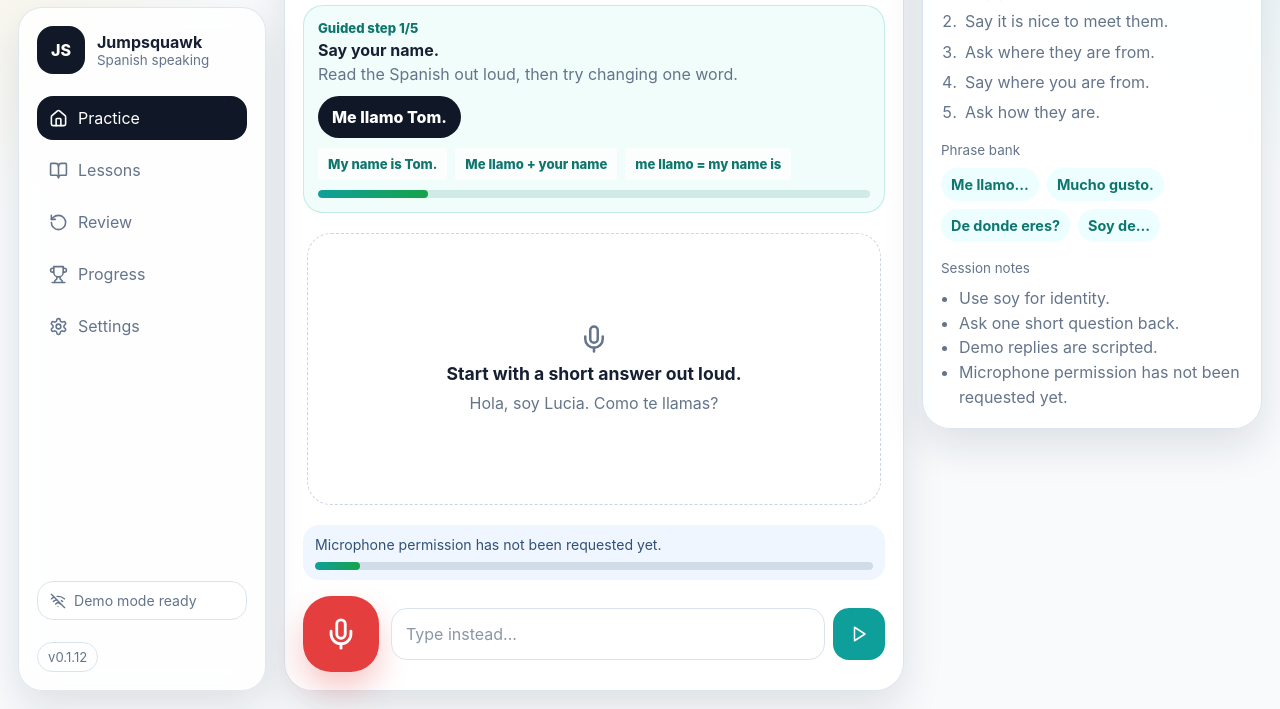
Test: App › sends typed practice without requiring the mic first
The image size is (1280, 709).
(page scrolled)
Type "Me llamo Tom" into the field named "Type a practice reply" at coordinates (608, 634), box [391,608,825,660]
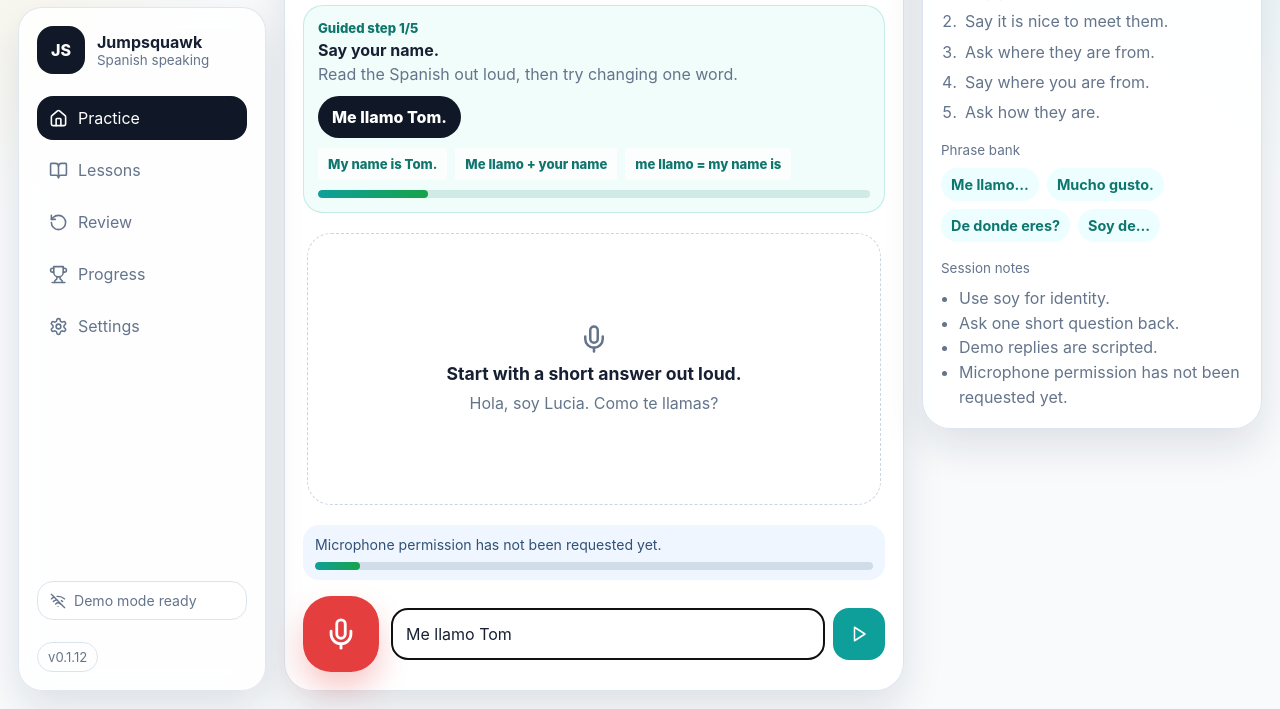
Click the button named "Send typed reply" at coordinates (859, 634), box [833,608,885,660]
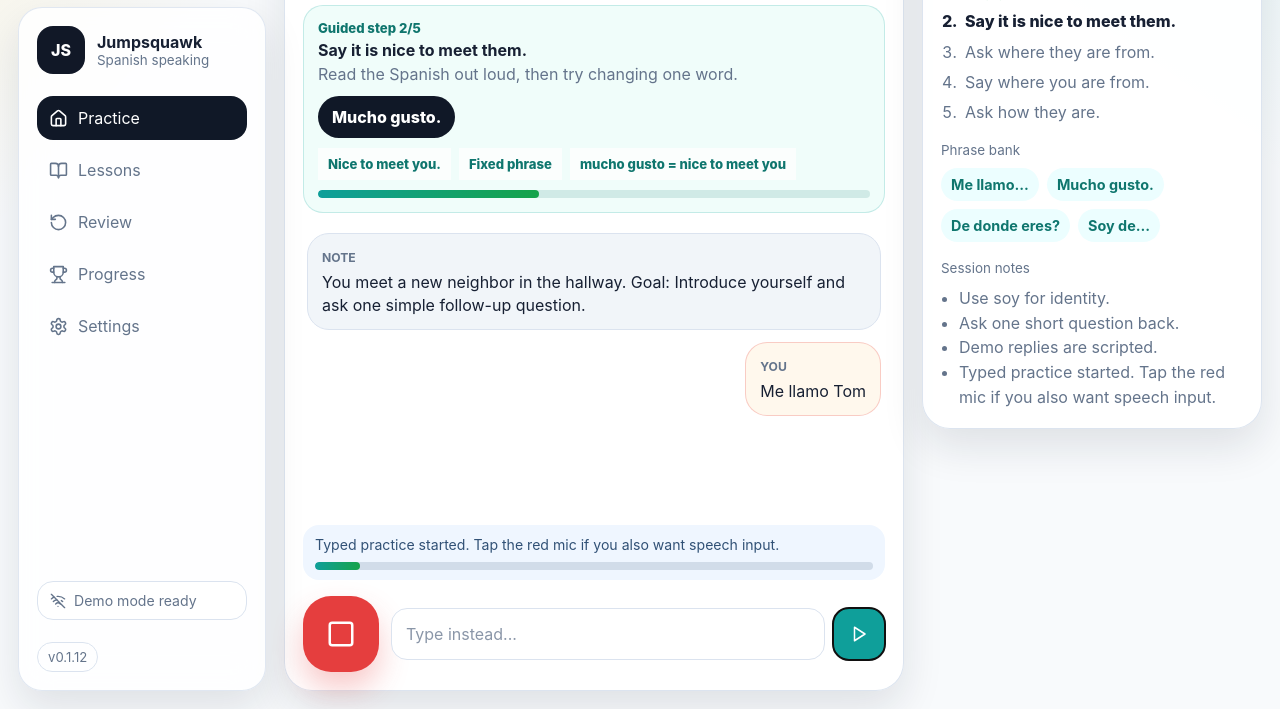
Check: the text "Me llamo Tom" is shown, box [760,380,866,403]
Check: the text "Typed practice started" is shown, box [315,536,779,553]
